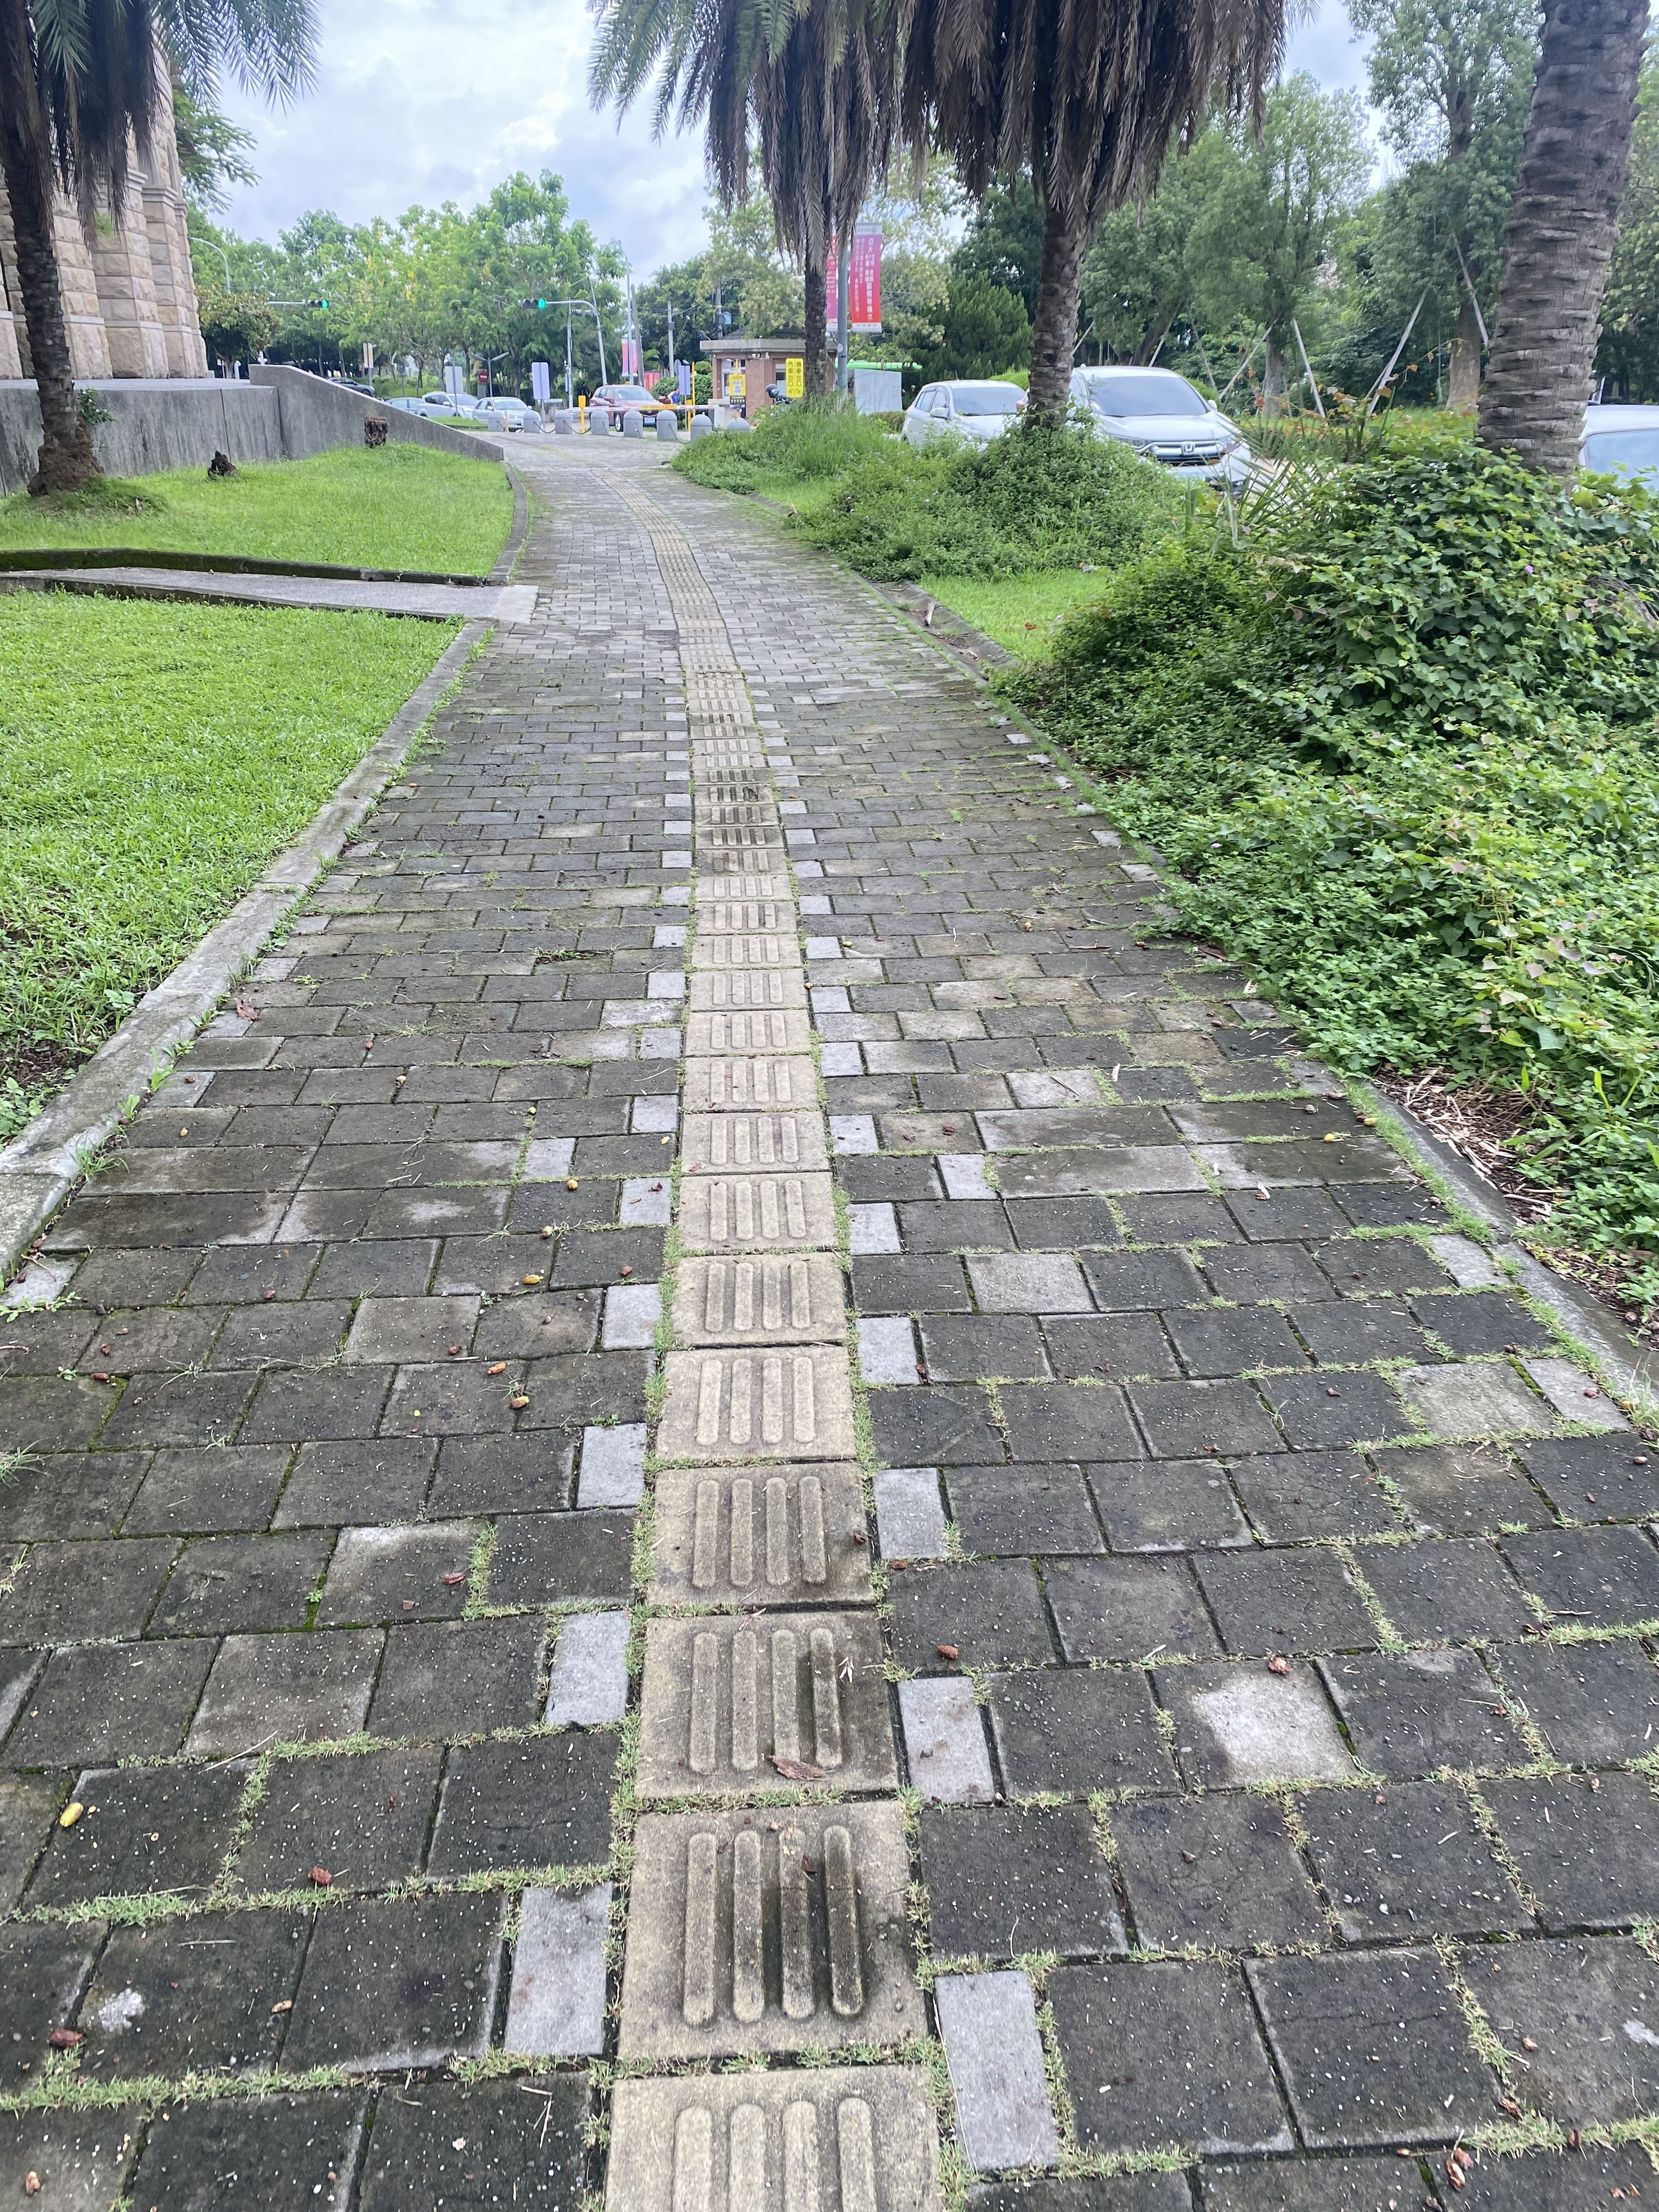0: (10, 667, 1659, 2212)
sidewalk: (458, 388, 1007, 1325)
